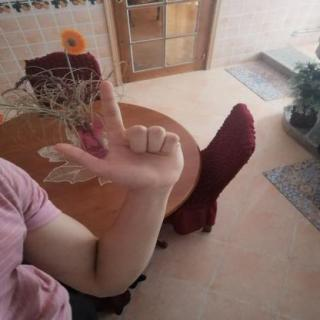LAAM: (39, 74, 192, 198)
